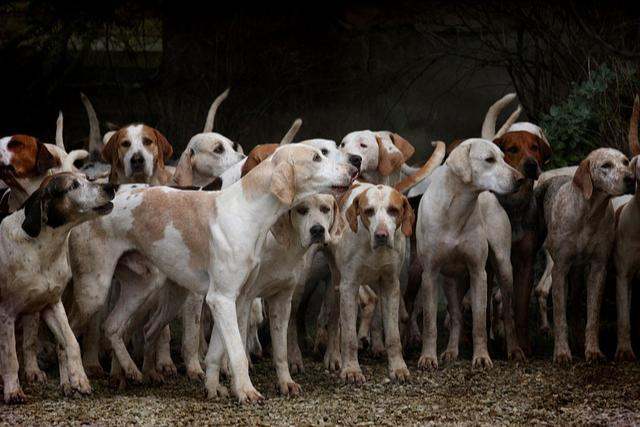Non_Gorille: (10, 33, 640, 427)
